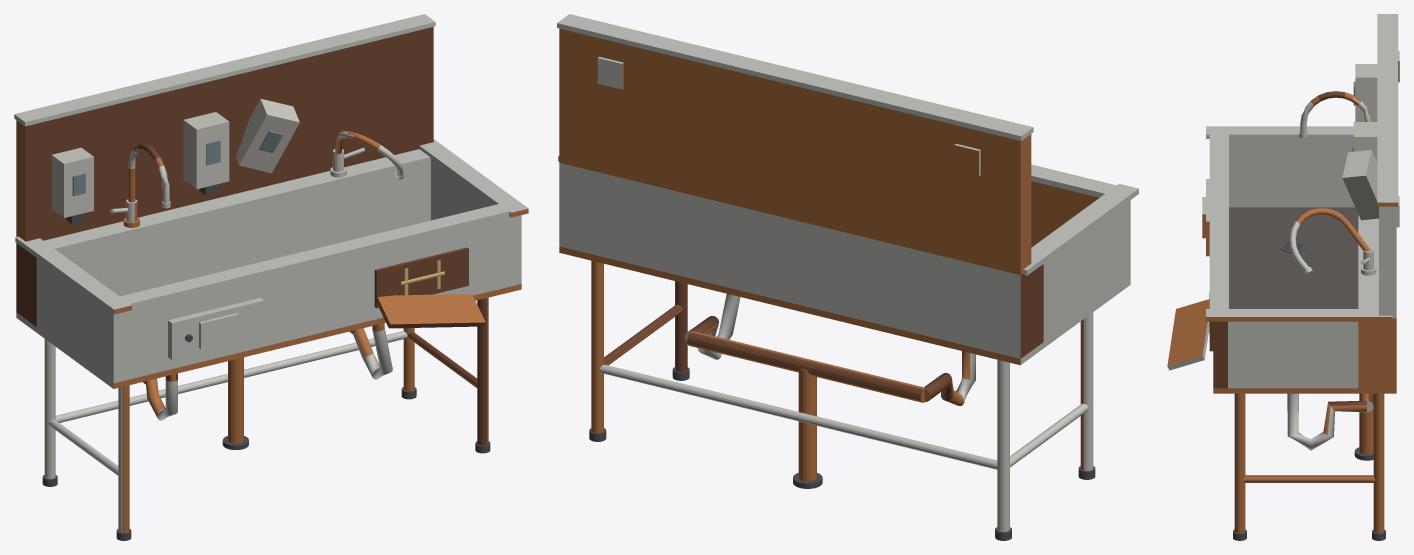
The model's file is sink_v2.fbx.
3 views of the same model, side by side, from view 1: azimuth 30°, elevation 25°; view 2: azimuth 150°, elevation 25°; view 3: azimuth 270°, elevation 25° (orthographic). The views are drawn at different scales.
Parts seen in each view (by area): view 1: 02_ScrubSink_Damaged_Mesh; view 2: 02_ScrubSink_Damaged_Mesh; view 3: 02_ScrubSink_Damaged_Mesh.
Part boxes in pixels (x1,y1,x2,y2): 02_ScrubSink_Damaged_Mesh: [14, 14, 528, 540]; 02_ScrubSink_Damaged_Mesh: [557, 14, 1138, 540]; 02_ScrubSink_Damaged_Mesh: [1167, 14, 1399, 540].
Size of the model in its own units: 153 by 130 by 78.54.
